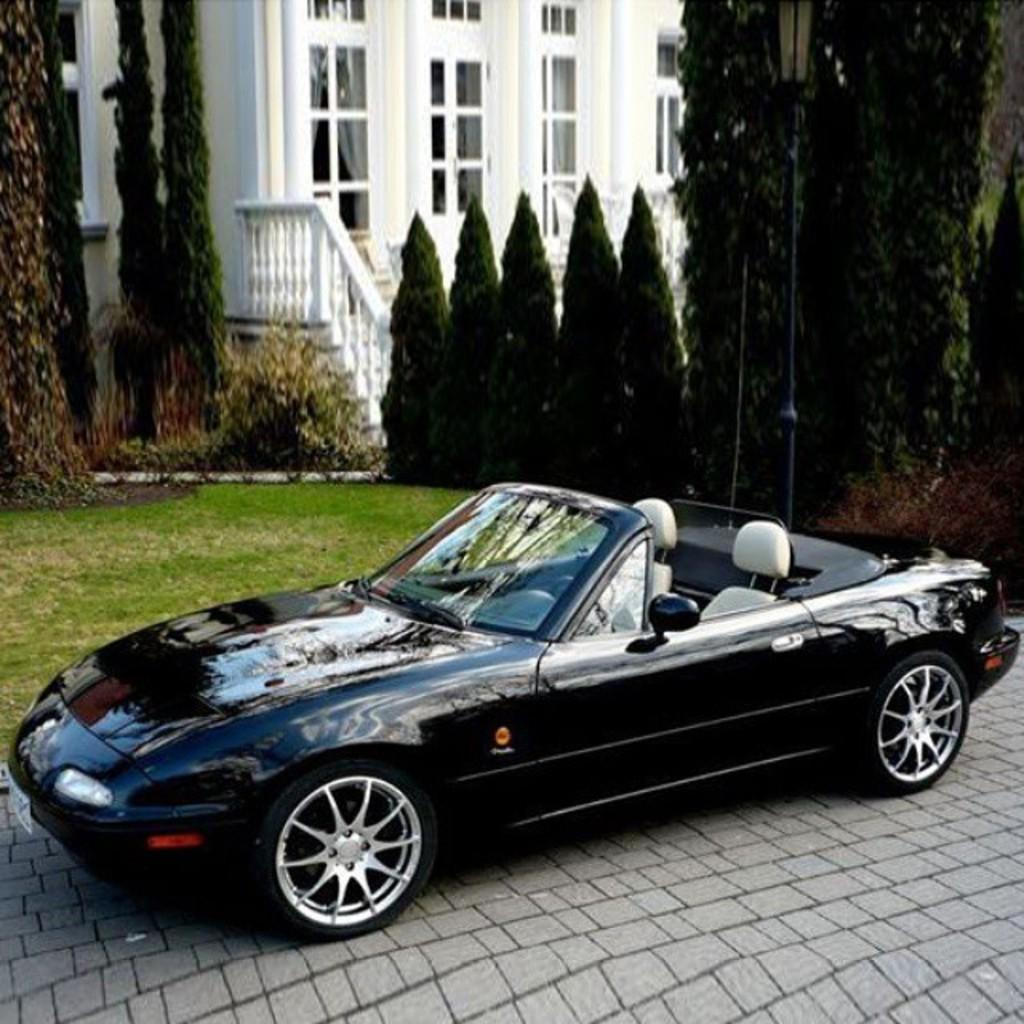Car: (0, 474, 1022, 947)
